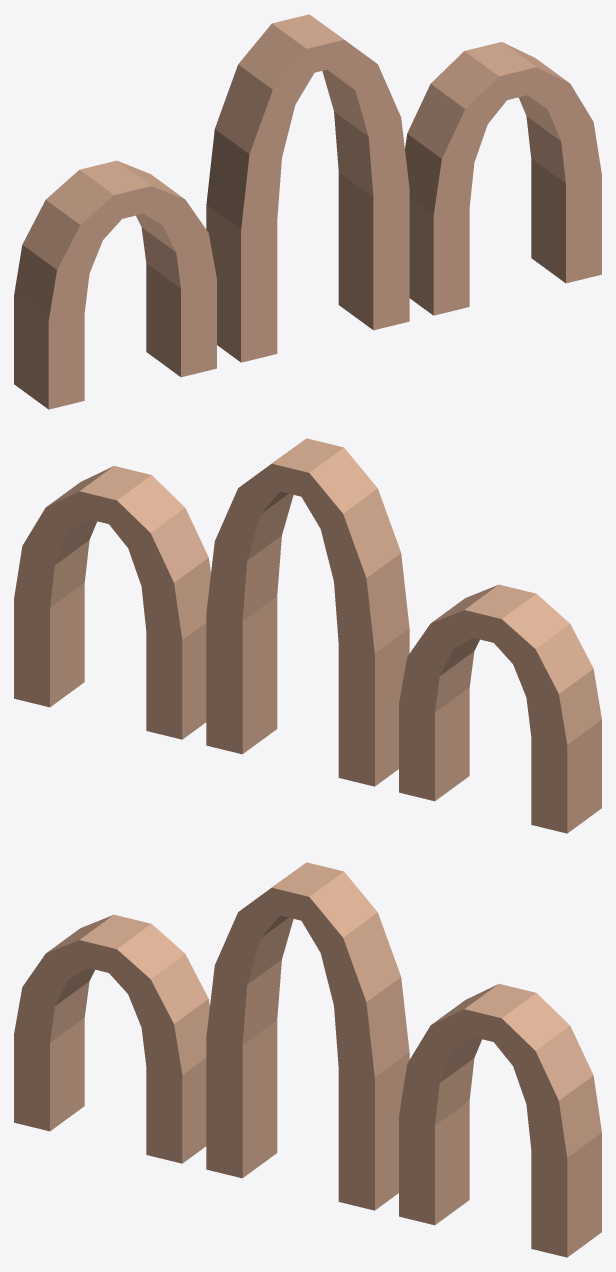
Rendered from three_arches_far-C-pcCa62.glb.
The picture shows the model from 3 angles, top to bottom: view 1: azimuth 30°, elevation 25°; view 2: azimuth 150°, elevation 25°; view 3: azimuth 330°, elevation 25°; orthographic projection.
Parts seen in each view (by area): view 1: three_arches_far; view 2: three_arches_far; view 3: three_arches_far.
Boxes of the visible parts, left/top/right/bottom form: three_arches_far: left=14, top=14, right=601, bottom=409; three_arches_far: left=14, top=438, right=601, bottom=833; three_arches_far: left=14, top=862, right=601, bottom=1257.
Size of the model in its own units: 23 by 11.83 by 2.5.
